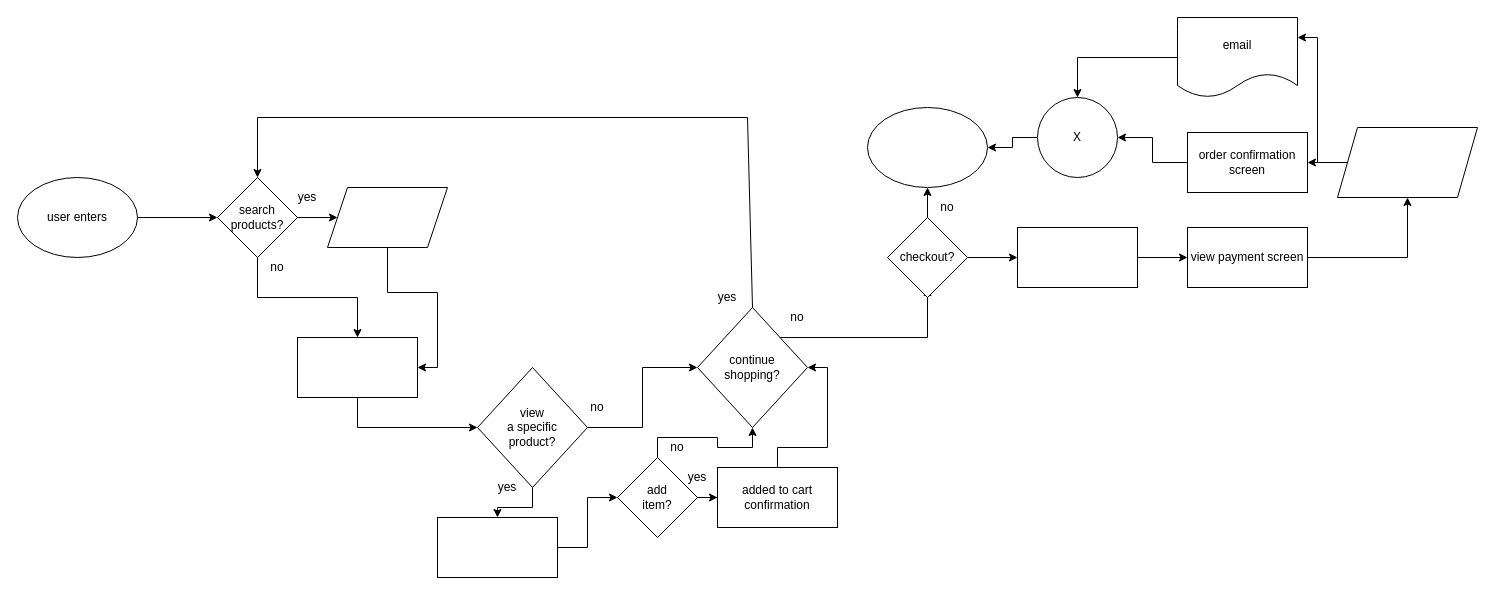
Image size: 1495x595. Some labels were removed from this diagram. Each missing label, with the centre of its shape:
"Look over the products" goes at [357,367].
"payment information input" goes at [1407,162].
"products's webpage open" goes at [497,547].
"provide input to the search" goes at [387,217].
"user leaves the website" goes at [927,147].
"view cart screen" goes at [1077,257].
